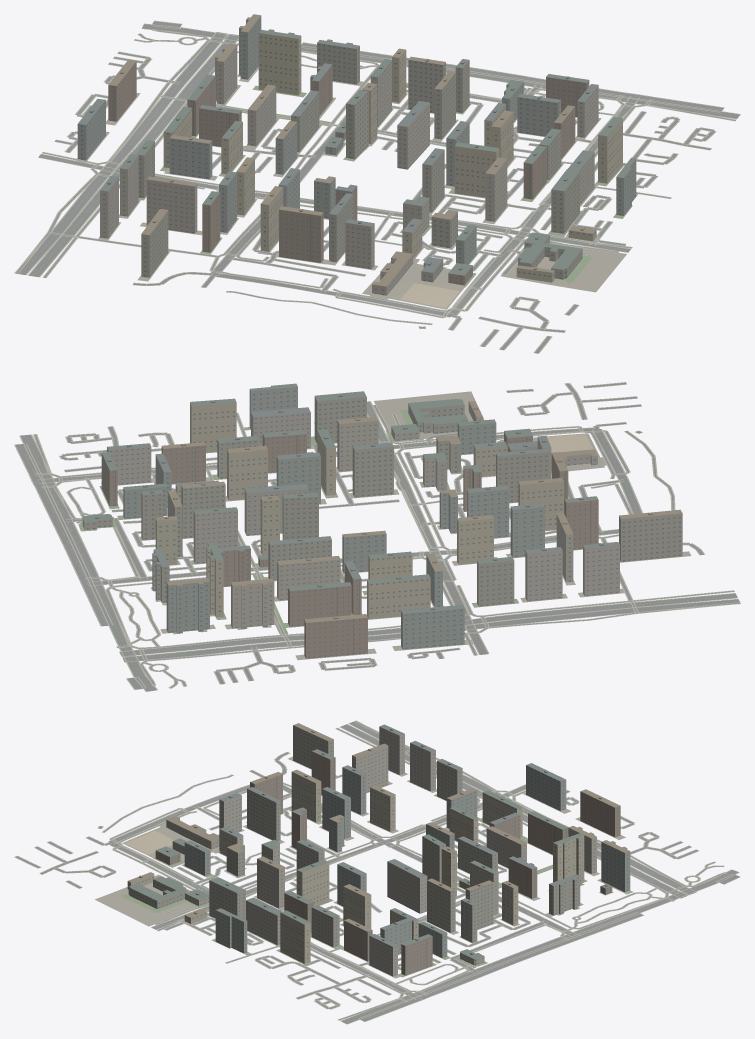
3 renders of one model, top to bottom at view 1: azimuth 30°, elevation 25°; view 2: azimuth 150°, elevation 25°; view 3: azimuth 270°, elevation 25°, orthographic. The views are drawn at different scales.
Visible parts, largest first — view 1: context-osm-buildings, context-osm-roads, context-osm-sidewalks, context-building-plinths; view 2: context-osm-buildings, context-osm-roads, context-osm-sidewalks, context-building-plinths; view 3: context-osm-buildings, context-osm-roads, context-osm-sidewalks, context-building-plinths.
Boxes of the visible parts, x1,y1,x2,y2 form: context-osm-buildings: [77, 14, 636, 295]; context-osm-roads: [16, 21, 739, 353]; context-osm-sidewalks: [14, 20, 740, 353]; context-building-plinths: [76, 66, 637, 309]; context-osm-buildings: [82, 383, 682, 658]; context-osm-roads: [15, 382, 740, 691]; context-osm-sidewalks: [14, 382, 740, 691]; context-building-plinths: [78, 391, 691, 660]; context-osm-buildings: [127, 723, 630, 976]; context-osm-roads: [15, 721, 739, 1023]; context-osm-sidewalks: [14, 720, 740, 1024]; context-building-plinths: [95, 756, 632, 978].
Size of the model in its own units: 951 by 79.03 by 996.
